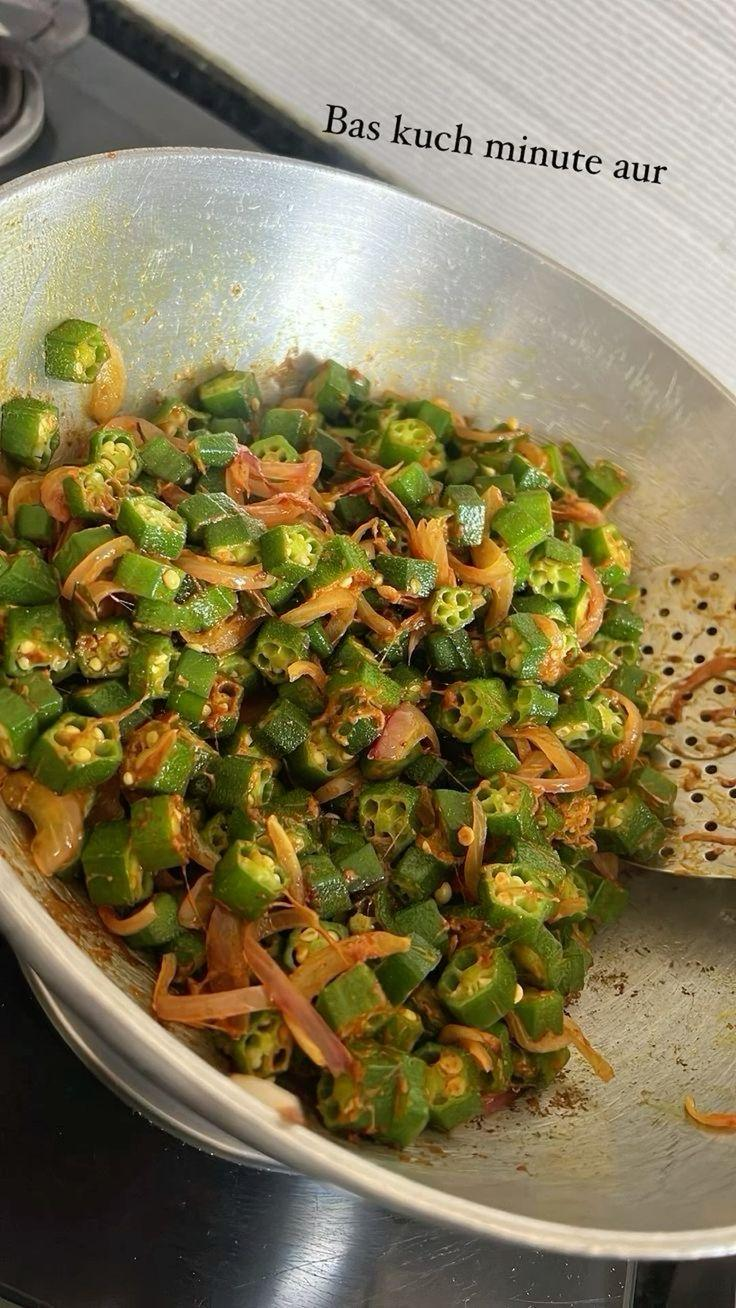bhindi: (2, 373, 585, 976)
